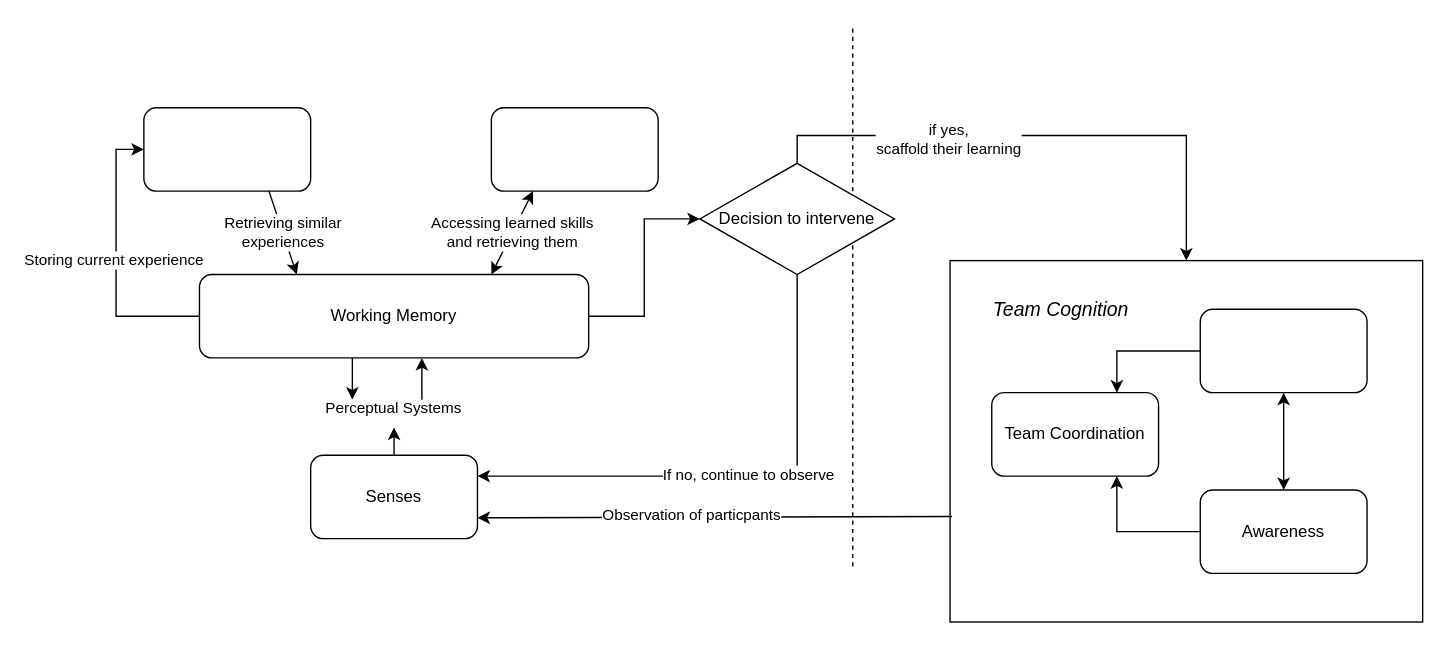
This 1447x646 diagram has some shape labels left out. The shapes that lost their labels are listed below. From the top down, each one's box as (x1, y1, x2, y2) in pixels, then its label:
(142, 106, 311, 191): Episodic Memory
(490, 106, 658, 191): Procedural Memory
(1199, 308, 1367, 393): Communication
